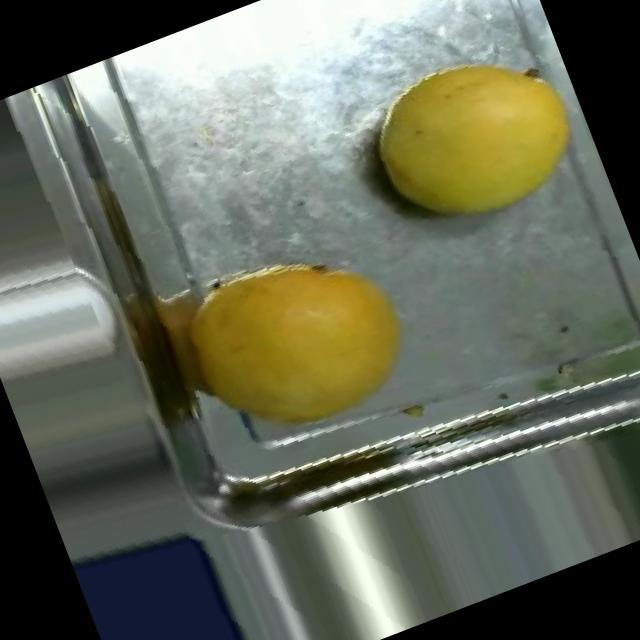fruit: (144, 205, 444, 476), (330, 3, 611, 266)
